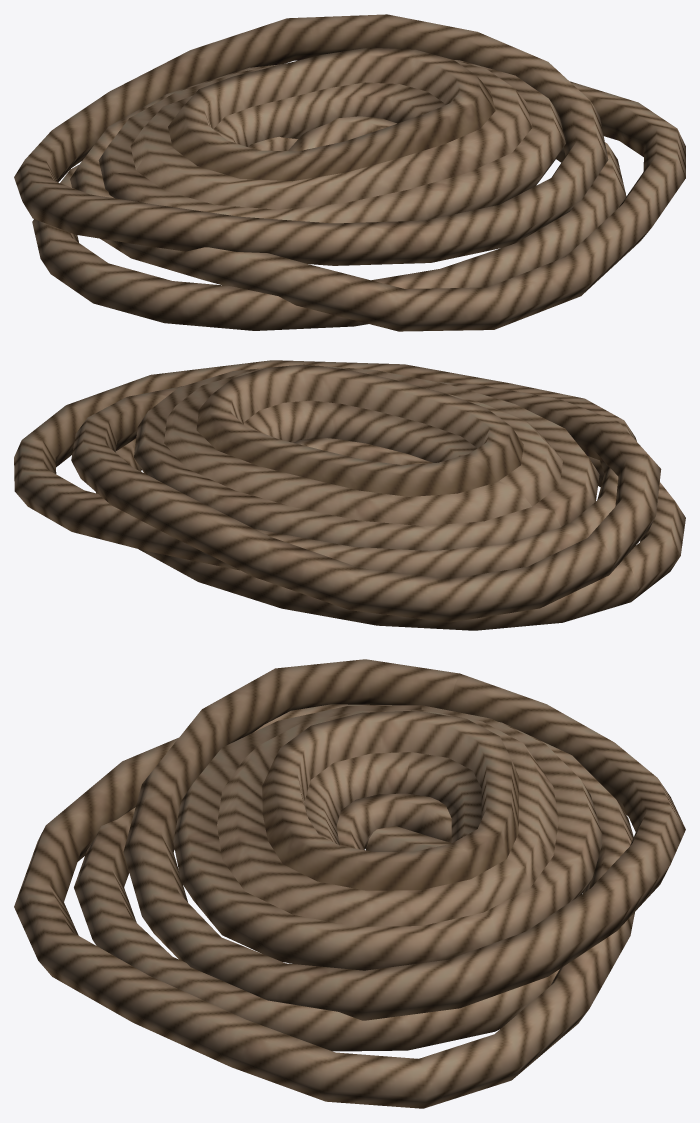
Rendered from camp_seaport_rope_01.fbx.
The picture shows the model from 3 angles, top to bottom: view 1: azimuth 30°, elevation 25°; view 2: azimuth 150°, elevation 25°; view 3: azimuth 270°, elevation 25°; orthographic projection. The views are drawn at different scales.
Parts seen in each view (by area): view 1: camp_seaport_rope_01; view 2: camp_seaport_rope_01; view 3: camp_seaport_rope_01.
Part boxes in pixels (x1,y1,x2,y2): camp_seaport_rope_01: (14, 14, 685, 331); camp_seaport_rope_01: (14, 360, 685, 630); camp_seaport_rope_01: (14, 659, 685, 1108).
Bounding box in the file's own units: 88.5 × 17.02 × 72.17.
